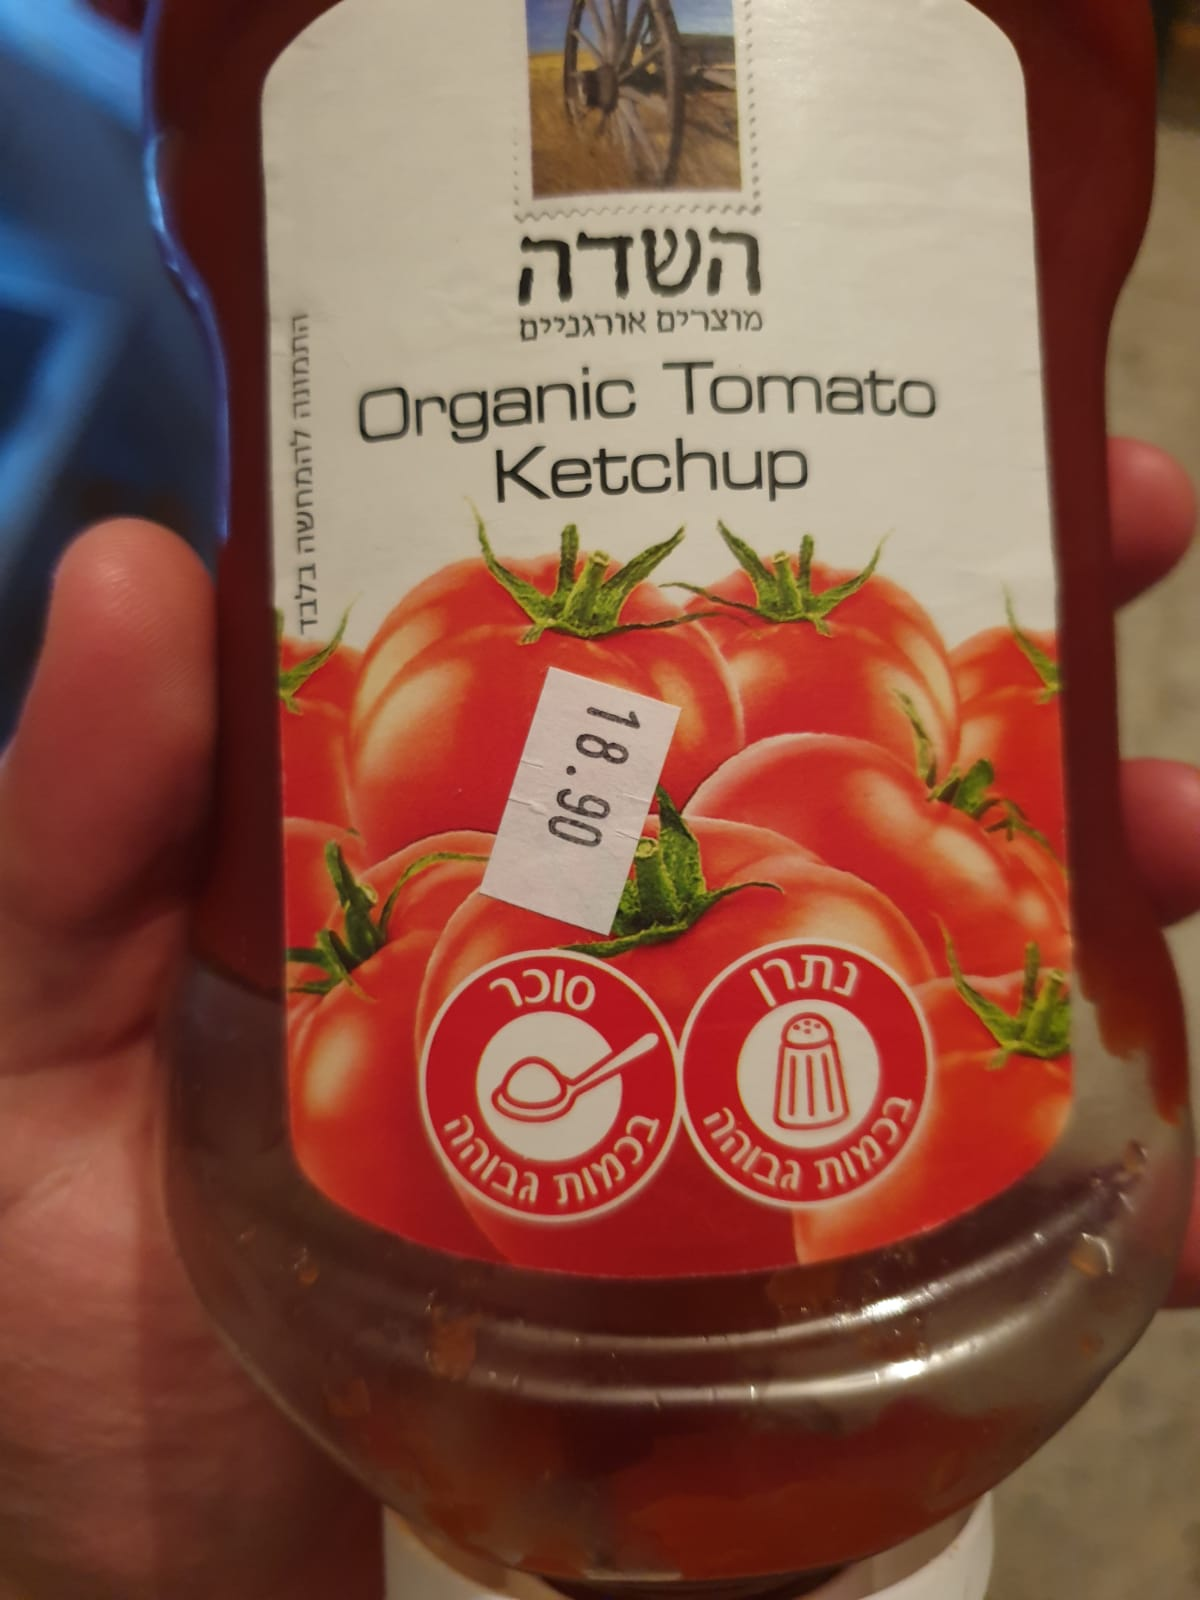salt: (676, 941, 937, 1214)
sugar: (416, 950, 682, 1225)
